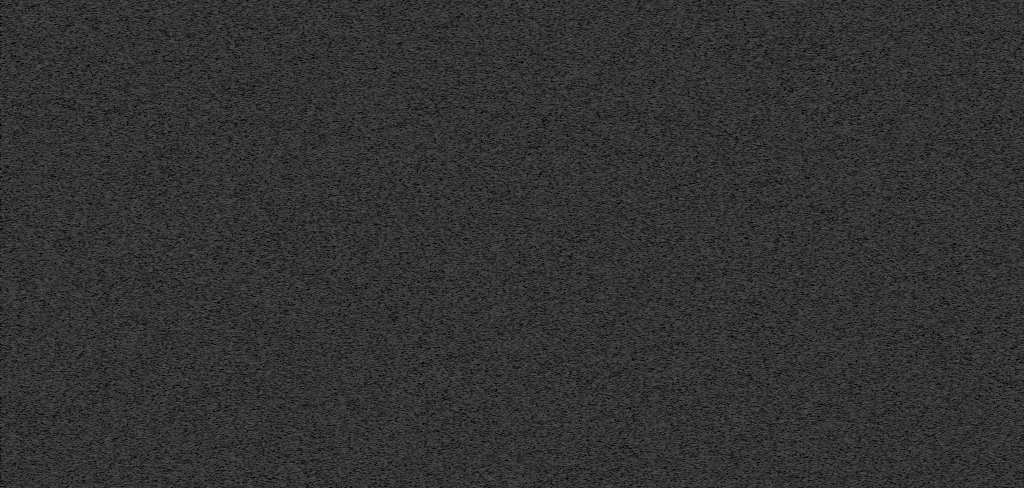wv_am: (157, 0, 164, 488), (52, 0, 56, 312), (52, 360, 56, 468), (52, 340, 56, 352), (52, 320, 56, 332), (52, 469, 56, 476), (52, 353, 56, 359), (52, 333, 56, 339), (52, 314, 56, 319), (52, 477, 56, 482), (51, 485, 57, 488)
wv_lsb: (208, 253, 216, 488), (209, 4, 215, 252)
wv_usb: (701, 3, 710, 488), (859, 87, 864, 133), (859, 336, 863, 379), (471, 58, 476, 92), (329, 317, 334, 339), (471, 216, 476, 238), (859, 308, 863, 335), (471, 342, 476, 363), (859, 63, 864, 84), (860, 157, 863, 190), (471, 6, 476, 24), (860, 210, 863, 237), (471, 244, 476, 259), (472, 132, 475, 153), (860, 396, 863, 417), (860, 12, 863, 32), (860, 470, 863, 488), (471, 186, 475, 199), (859, 380, 863, 392), (472, 399, 475, 414), (472, 306, 475, 321), (860, 435, 863, 450), (472, 34, 475, 48), (860, 47, 863, 61), (329, 4, 333, 14), (471, 166, 475, 176), (860, 262, 863, 275), (472, 364, 475, 376), (472, 284, 475, 296), (471, 154, 475, 163), (860, 418, 863, 430), (860, 290, 863, 301), (471, 177, 475, 185), (471, 51, 476, 57), (472, 270, 475, 279), (472, 260, 475, 269), (472, 436, 475, 444), (472, 297, 475, 305), (472, 113, 475, 121), (472, 104, 475, 112), (471, 27, 475, 33), (860, 458, 863, 466), (330, 429, 333, 436), (330, 356, 333, 363), (472, 475, 475, 482), (472, 377, 475, 384), (472, 323, 475, 330), (472, 93, 475, 100), (330, 349, 333, 355), (330, 340, 333, 346), (472, 468, 475, 474), (472, 461, 475, 467), (472, 417, 475, 423), (472, 122, 475, 128), (860, 150, 863, 156), (472, 206, 475, 211), (330, 19, 333, 23), (472, 445, 475, 449), (472, 424, 475, 428), (472, 394, 475, 398), (472, 331, 475, 335), (330, 379, 333, 383), (860, 302, 863, 306), (860, 277, 863, 281), (860, 252, 863, 256), (860, 243, 863, 247), (860, 136, 863, 140), (860, 6, 863, 10), (330, 415, 333, 418), (330, 38, 333, 41), (330, 29, 333, 32), (330, 25, 333, 28), (330, 15, 333, 18), (330, 406, 333, 409), (472, 454, 475, 457), (472, 432, 475, 435), (330, 402, 333, 405), (472, 390, 475, 393), (330, 397, 333, 400), (472, 239, 475, 242), (330, 393, 333, 396), (330, 384, 333, 387), (860, 257, 863, 260), (860, 248, 863, 251), (330, 375, 333, 378), (860, 238, 863, 241), (860, 36, 863, 39), (330, 370, 333, 373)
wv_wbfm: (646, 0, 689, 488), (745, 0, 786, 488)
